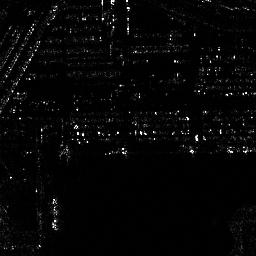ship: (49, 197, 60, 230)
